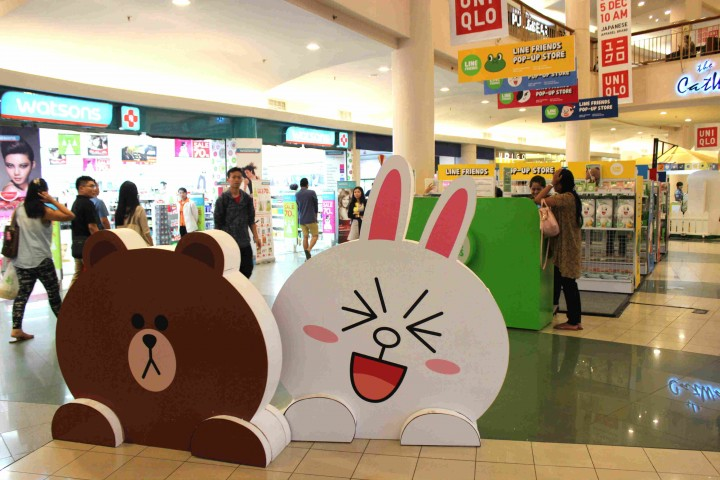line_brown: (41, 221, 293, 470)
